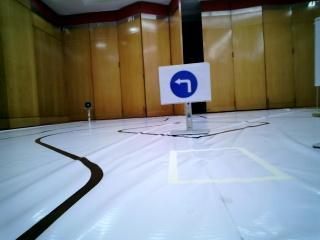left: (160, 69, 212, 104)
